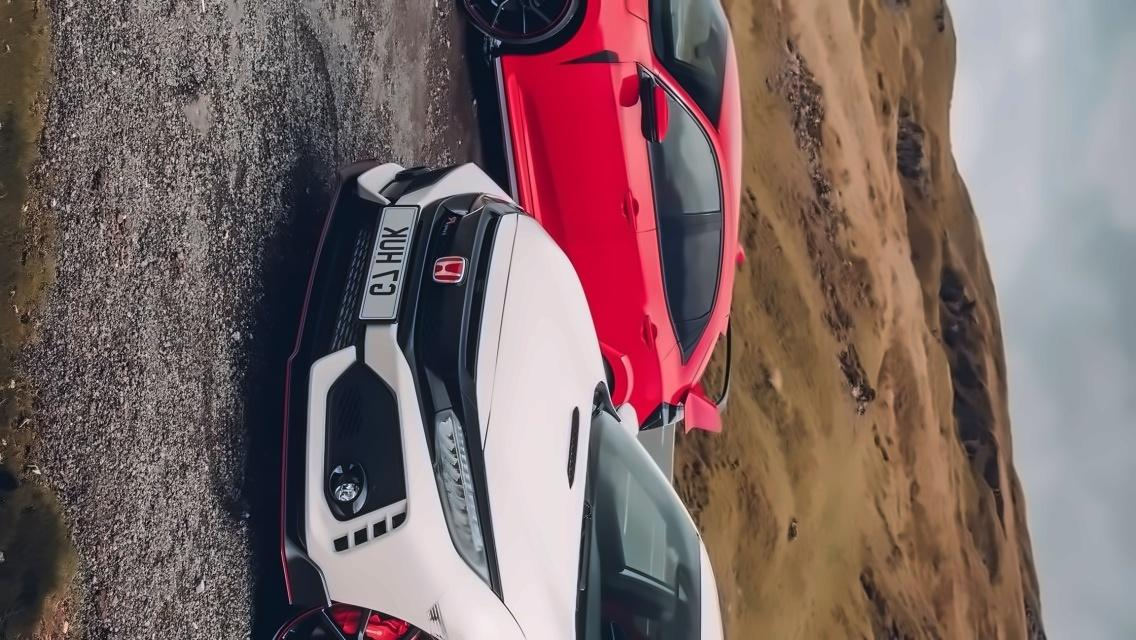Car hood: (471, 211, 610, 640)
Fender - -R-L-: (497, 0, 666, 95), (588, 316, 738, 423)
Front bumper: (265, 139, 496, 640)
Headlight - -L-: (429, 411, 503, 603)
Passenger-s door - -F-L-: (491, 67, 744, 230)
Passenger-s door - -R-L-: (527, 213, 741, 375)
Side bumper - -L-: (481, 47, 562, 234)
Side mirror - -L-: (630, 72, 675, 149)
